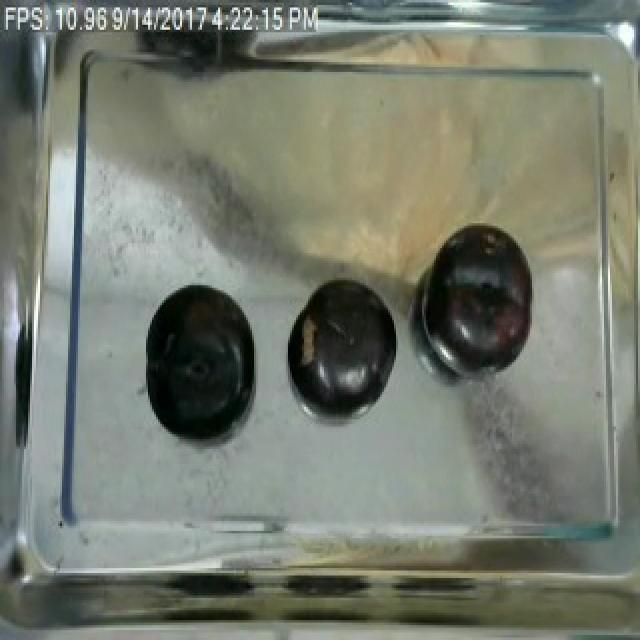Fruit: (140, 276, 254, 447), (422, 216, 536, 379), (282, 273, 398, 419)
